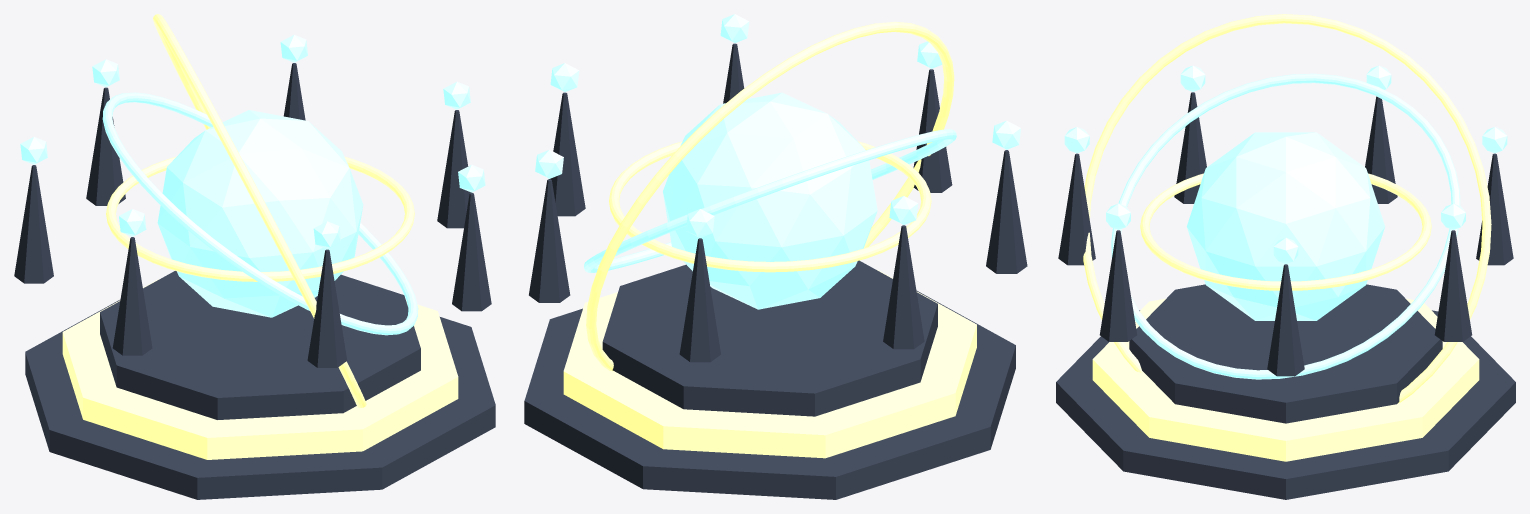
File: gpu-blender-v22.glb
3 renders of one model, left to right at view 1: azimuth 30°, elevation 25°; view 2: azimuth 150°, elevation 25°; view 3: azimuth 270°, elevation 25°, orthographic. The views are drawn at different scales.
Parts seen in each view (by area): view 1: Cylinder.002, SovereignCore_agent-capsule-jail, Cylinder, Cylinder.001, Torus.001, Torus, Torus.002, Cone.006, Cone.003, Cone.004, Cone.005, Cone (+9 smaller); view 2: Cylinder.002, SovereignCore_agent-capsule-jail, Cylinder, Cylinder.001, Torus.002, Torus.001, Torus, Cone.003, Cone.002, Cone.004, Cone.001, Cone (+8 smaller); view 3: SovereignCore_agent-capsule-jail, Cylinder.002, Cylinder, Cylinder.001, Torus.002, Torus.001, Torus, Cone, Cone.001, Cone.006, Cone.005, Cone.002 (+8 smaller).
Boxes of the visible parts, bbox=[...] form: Cylinder.002: bbox=[100, 271, 420, 419]; SovereignCore_agent-capsule-jail: bbox=[157, 110, 363, 317]; Cylinder: bbox=[25, 299, 495, 499]; Cylinder.001: bbox=[62, 279, 458, 459]; Torus.001: bbox=[102, 92, 418, 335]; Torus: bbox=[106, 156, 414, 281]; Torus.002: bbox=[153, 14, 366, 407]; Cone.006: bbox=[452, 193, 491, 311]; Cone.003: bbox=[14, 165, 53, 283]; Cone.004: bbox=[112, 237, 152, 355]; Cone.005: bbox=[307, 249, 347, 367]; Cone: bbox=[437, 110, 471, 228]; Cylinder.002: bbox=[602, 260, 937, 416]; SovereignCore_agent-capsule-jail: bbox=[663, 92, 877, 309]; Cylinder: bbox=[524, 290, 1015, 499]; Cylinder.001: bbox=[563, 269, 976, 458]; Torus.002: bbox=[586, 21, 954, 371]; Torus.001: bbox=[584, 129, 956, 272]; Torus: bbox=[609, 141, 931, 272]; Cone.003: bbox=[883, 225, 924, 349]; Cone.002: bbox=[679, 238, 720, 362]; Cone.004: bbox=[986, 150, 1027, 273]; Cone.001: bbox=[529, 179, 570, 302]; Cone: bbox=[549, 92, 585, 216]; SovereignCore_agent-capsule-jail: bbox=[1186, 132, 1385, 320]; Cylinder.002: bbox=[1129, 284, 1442, 423]; Cylinder: bbox=[1056, 310, 1515, 499]; Cylinder.001: bbox=[1092, 298, 1479, 461]; Torus.002: bbox=[1083, 14, 1491, 403]; Torus.001: bbox=[1111, 73, 1460, 379]; Torus: bbox=[1140, 173, 1431, 290]; Cone: bbox=[1267, 264, 1304, 376]; Cone.001: bbox=[1434, 230, 1472, 341]; Cone.006: bbox=[1099, 230, 1137, 341]; Cone.005: bbox=[1058, 153, 1095, 265]; Cone.002: bbox=[1476, 153, 1513, 265].
Bounding box in the file's own units: 4.41 × 3.72 × 4.4.
